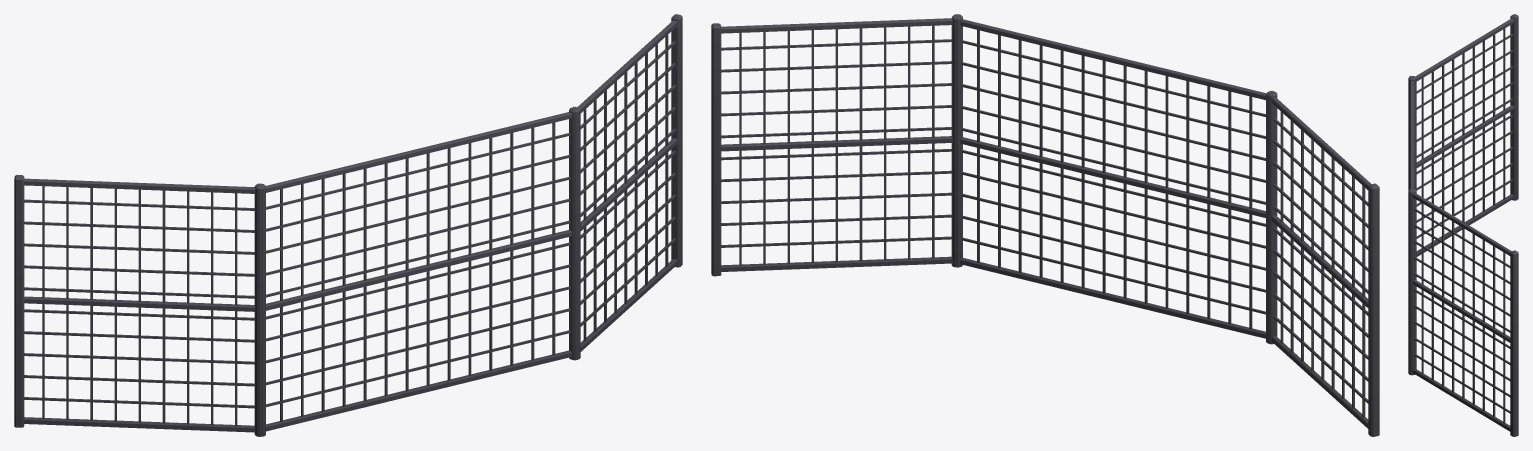
Rendered from ballfield_backstop.glb.
3 views of the same model, side by side, from view 1: azimuth 30°, elevation 25°; view 2: azimuth 150°, elevation 25°; view 3: azimuth 270°, elevation 25° (orthographic). The views are drawn at different scales.
Visible parts, largest first — view 1: ballfield_backstop; view 2: ballfield_backstop; view 3: ballfield_backstop.
Boxes of the visible parts, <box> form: ballfield_backstop: <box>14,14,682,436</box>; ballfield_backstop: <box>711,14,1379,436</box>; ballfield_backstop: <box>1408,14,1518,436</box>.
Bounding box in the file's own units: 12.74 × 4.55 × 2.48.
1 material, 1 textured.
